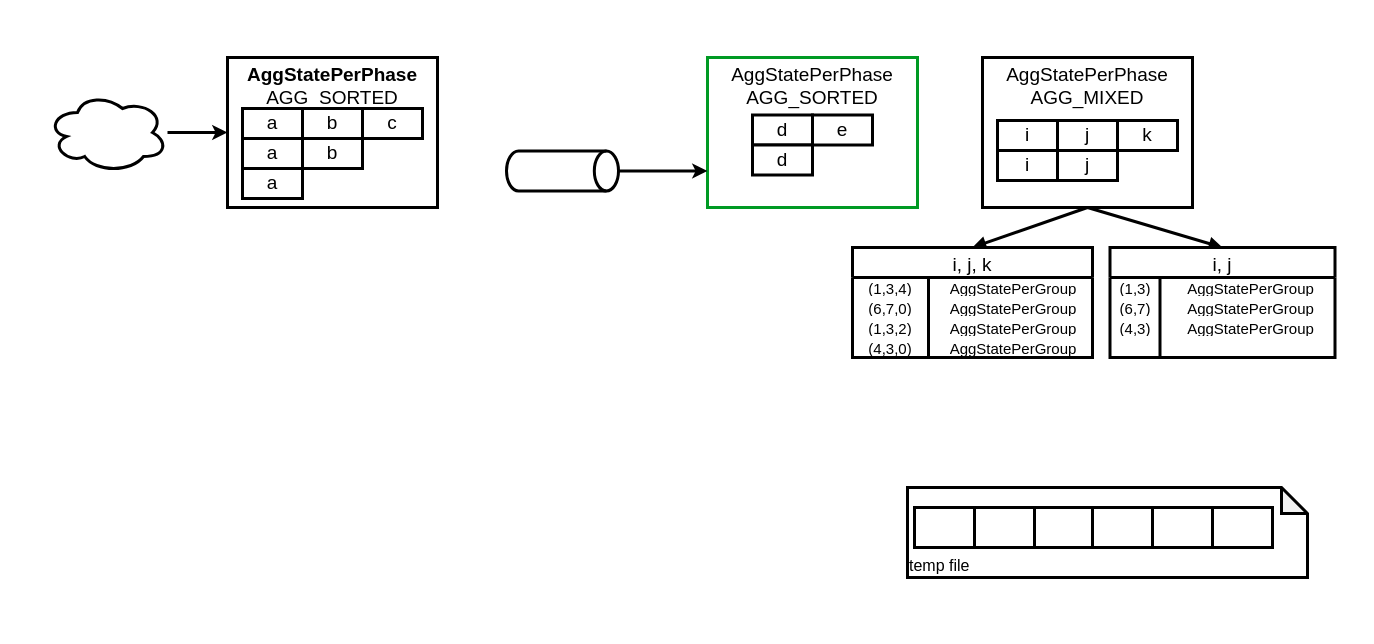
Some shapes in this 1374 by 644 pixel diagram are drawn without their labels. The shapes that lost their labels are listed below. From the top down, each one's centre as x and y in pixels, then its label:
At pixel 107 132: "Вход".
At pixel 562 170: "sort_out".
